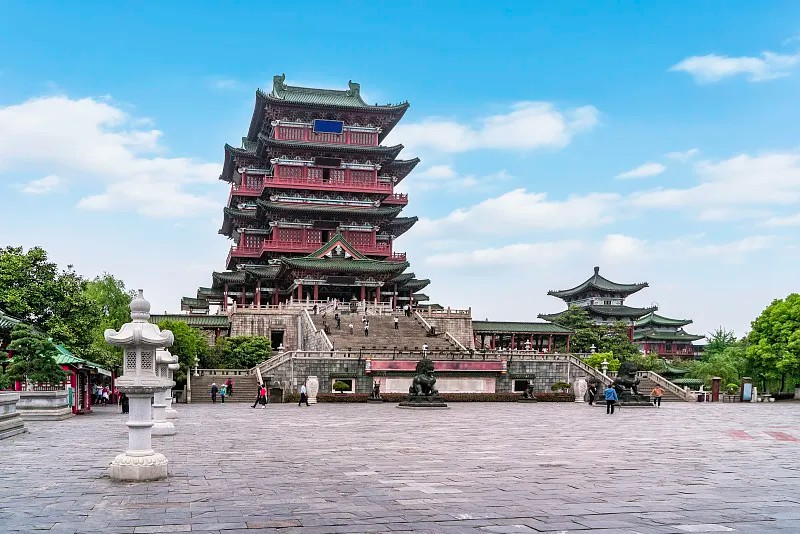Teng: (181, 74, 442, 309)
